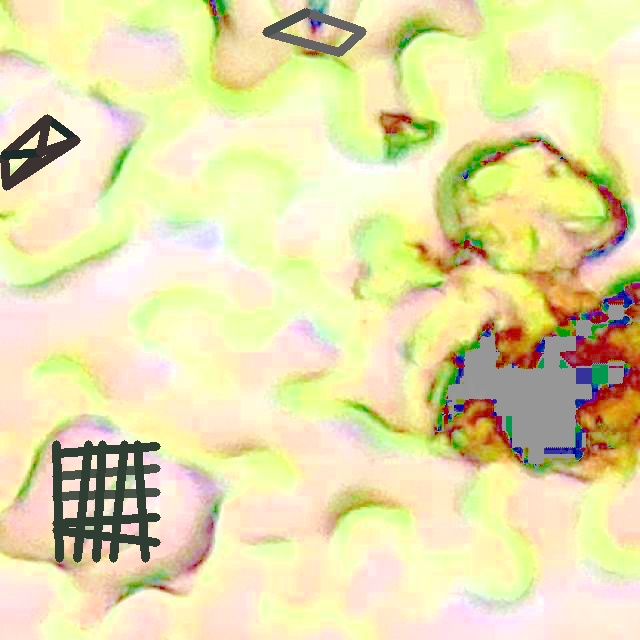close: (1, 115, 79, 190)
open: (53, 440, 160, 561), (263, 8, 365, 55)
